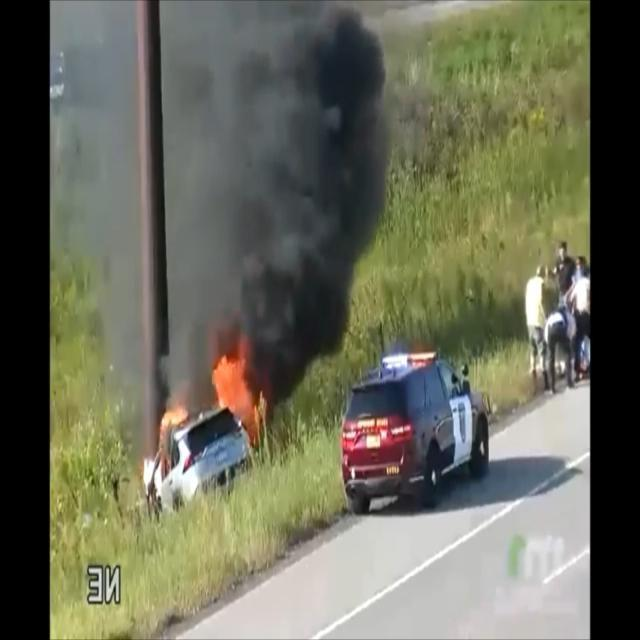fire: (214, 327, 274, 458), (135, 392, 191, 494)
